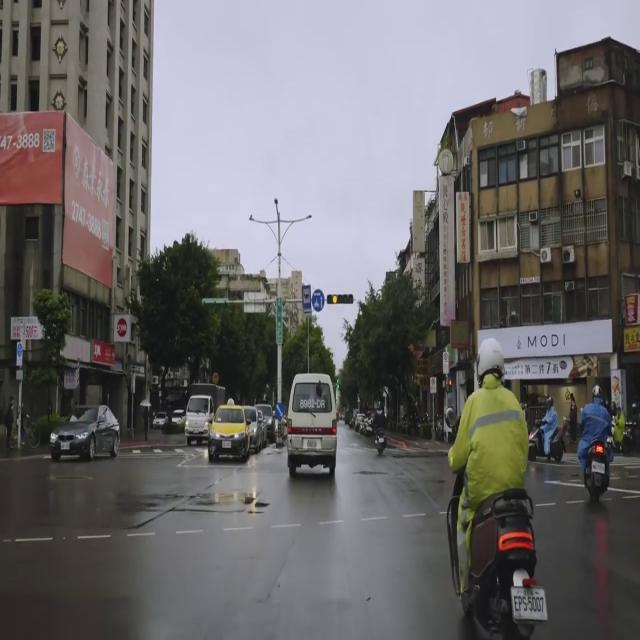yellow light: (326, 294, 354, 304)
